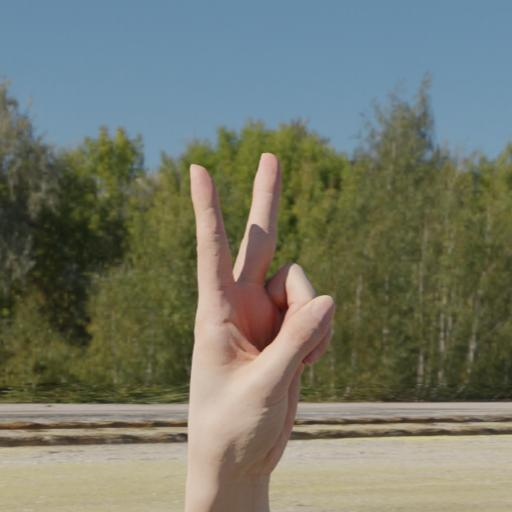V: (166, 144, 344, 495)
